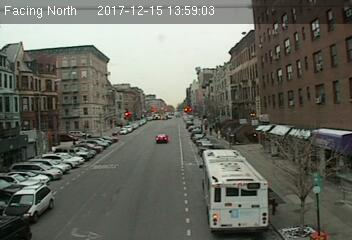bus: (200, 150, 269, 233)
car: (3, 181, 54, 221), (155, 133, 168, 144)
